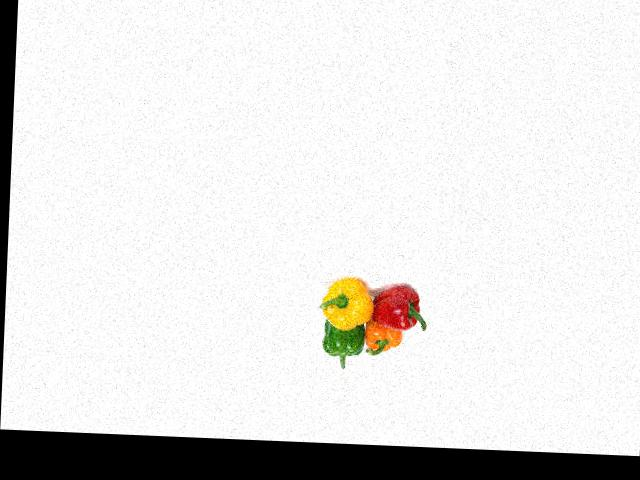bell_pepper: (315, 274, 376, 331)
